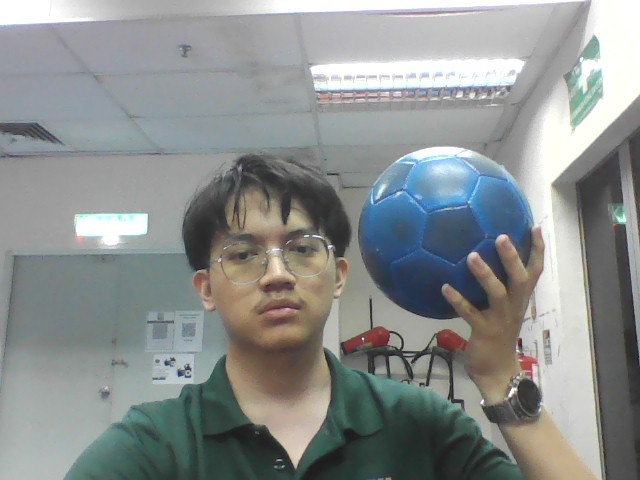Blue: (357, 146, 532, 319)
